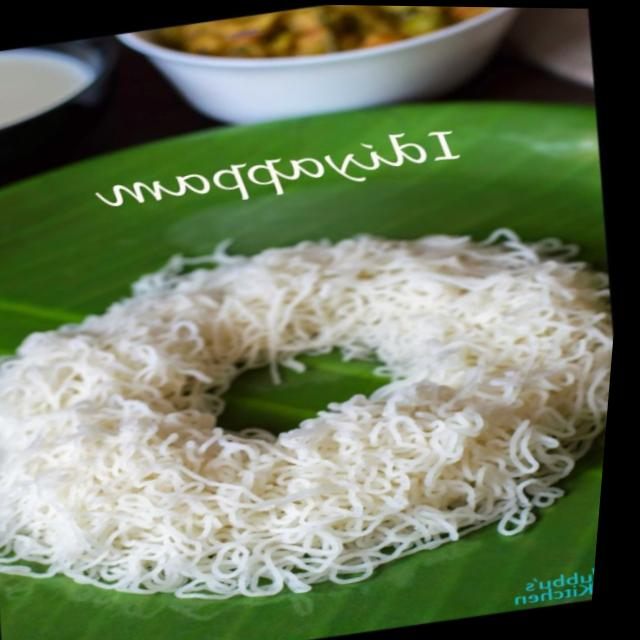IDIYAPPAM: (0, 232, 611, 599)
